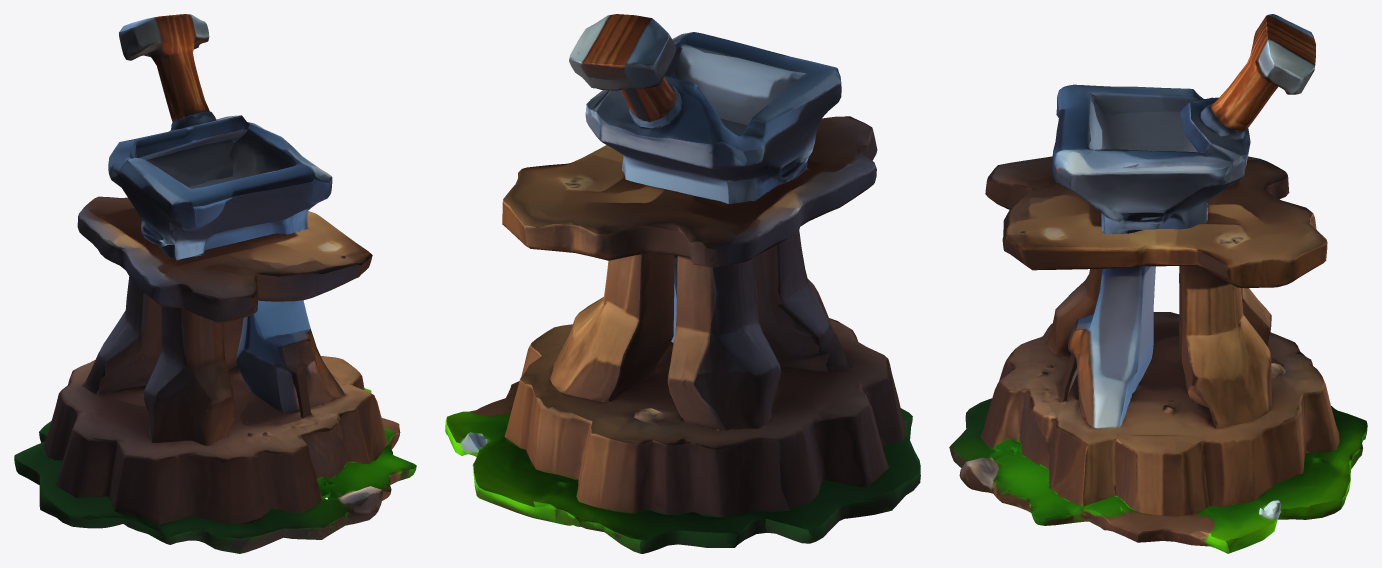
The model's file is anvil.glb.
3 renders of one model, left to right at view 1: azimuth 30°, elevation 25°; view 2: azimuth 150°, elevation 25°; view 3: azimuth 270°, elevation 25°, orthographic. The views are drawn at different scales.
Visible parts, largest first — view 1: world; view 2: world; view 3: world.
Boxes of the visible parts, x1=… form: world: x1=14, y1=14, x2=416, y2=553; world: x1=445, y1=14, x2=920, y2=553; world: x1=949, y1=14, x2=1367, y2=553.
Size of the model in its own units: 0.8934 by 1 by 0.8629.
1 material, 1 textured.
